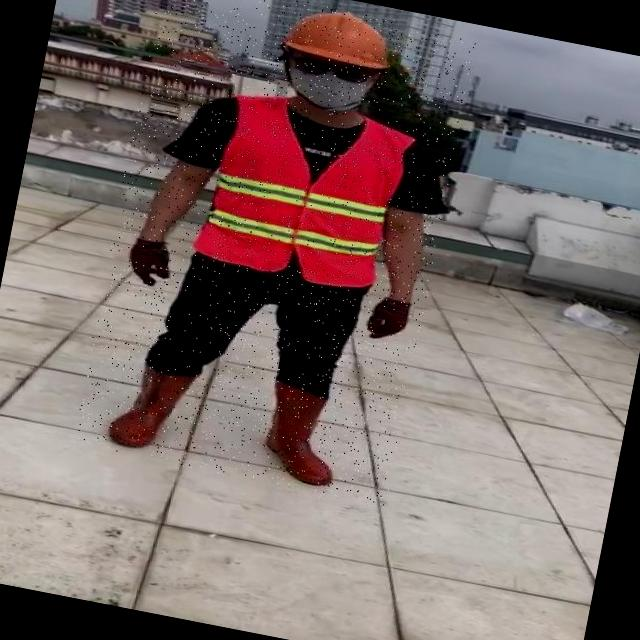boots: (105, 354, 206, 458), (257, 382, 349, 490)
gloves: (87, 215, 210, 314), (353, 278, 435, 362)
helmet: (275, 0, 400, 76)
vest: (190, 88, 414, 295)
